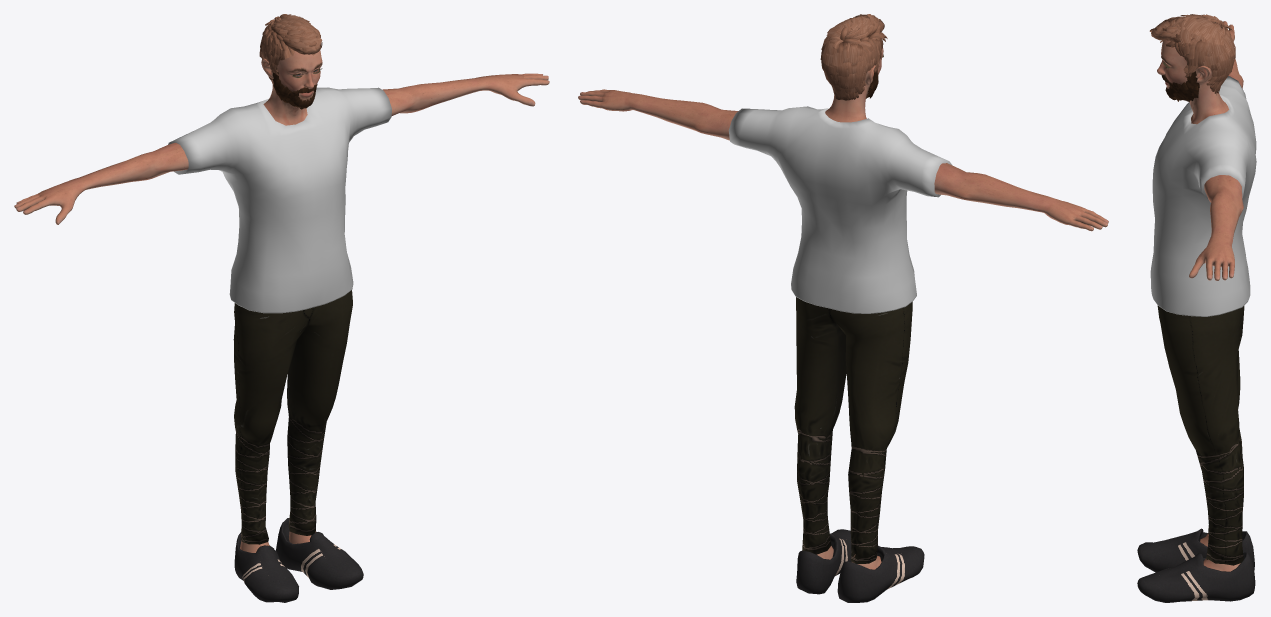
The picture shows the model from 3 angles, left to right: view 1: azimuth 30°, elevation 25°; view 2: azimuth 150°, elevation 25°; view 3: azimuth 270°, elevation 25°; orthographic projection.
Parts seen in each view (by area): view 1: Tops, Bottoms, Body, Shoes, Hair; view 2: Tops, Bottoms, Body, Shoes, Hair; view 3: Tops, Bottoms, Shoes, Body, Hair, Beards.
Part boxes in pixels (box(x1,y1,x2,y2)): Tops: box(168, 87, 391, 313); Bottoms: box(233, 290, 352, 544); Body: box(14, 50, 549, 552); Shoes: box(234, 518, 363, 602); Hair: box(259, 14, 322, 83); Tops: box(728, 106, 952, 313); Bottoms: box(794, 297, 912, 563); Body: box(578, 48, 1108, 569); Shoes: box(796, 529, 924, 602); Hair: box(820, 14, 887, 100); Tops: box(1150, 76, 1256, 316); Bottoms: box(1157, 305, 1244, 565); Shoes: box(1137, 528, 1255, 602); Body: box(1157, 21, 1243, 571); Hair: box(1149, 14, 1235, 94); Beards: box(1165, 71, 1199, 101).
Size of the model in its own units: 187 by 191 by 36.01.
